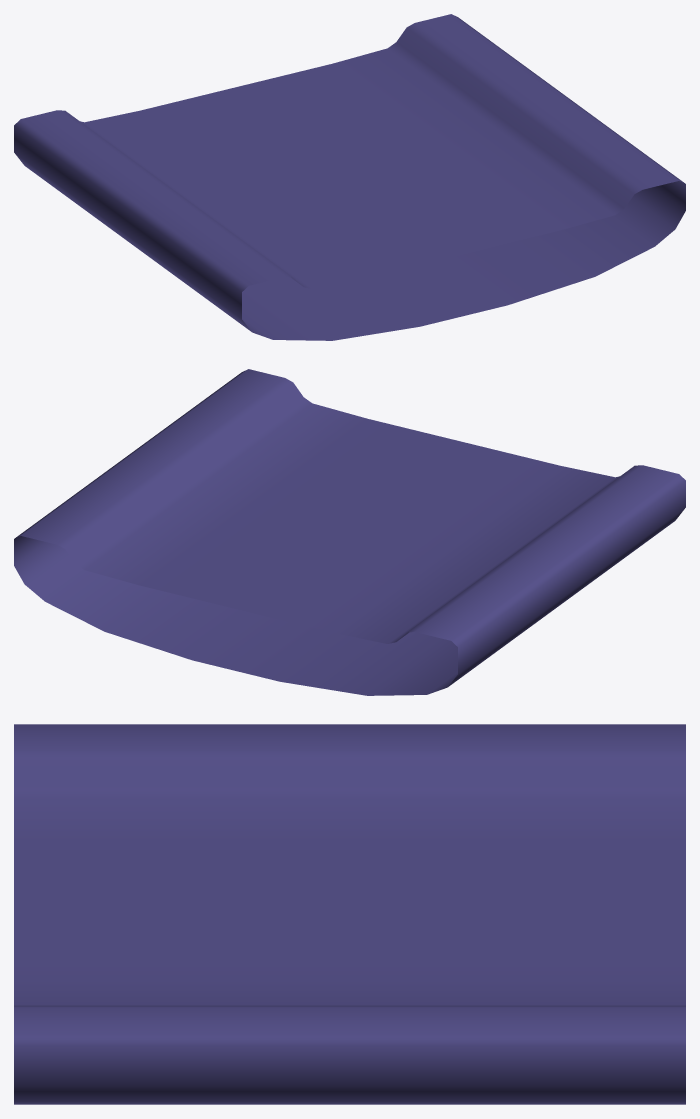
The model's file is CellCircuitTrackPiece.fbx.
3 views of the same model, one above another, from view 1: azimuth 30°, elevation 25°; view 2: azimuth 150°, elevation 25°; view 3: azimuth 270°, elevation 25° (orthographic). The views are drawn at different scales.
Visible parts, largest first — view 1: TrackPiece - Basic; view 2: TrackPiece - Basic; view 3: TrackPiece - Basic.
Boxes of the visible parts, x1=… form: TrackPiece - Basic: x1=14, y1=14, x2=685, y2=340; TrackPiece - Basic: x1=14, y1=369, x2=685, y2=695; TrackPiece - Basic: x1=14, y1=724, x2=685, y2=1104.
Size of the model in its own units: 2250 by 400 by 2000.
